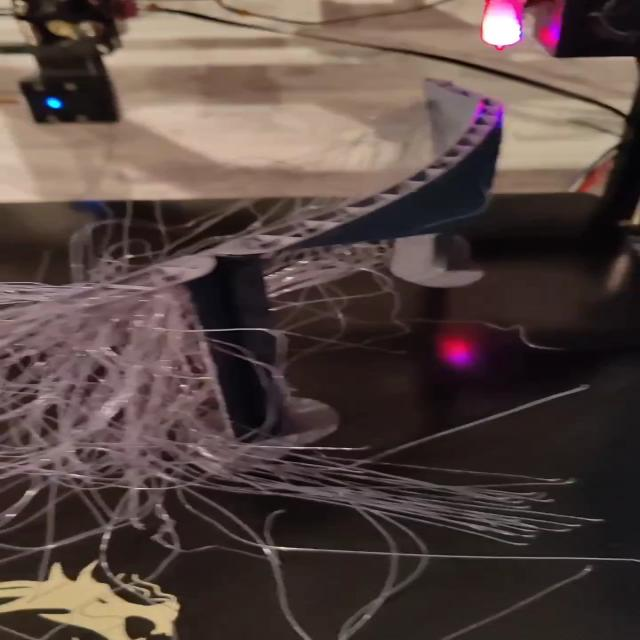spaghetti: (1, 233, 616, 594)
